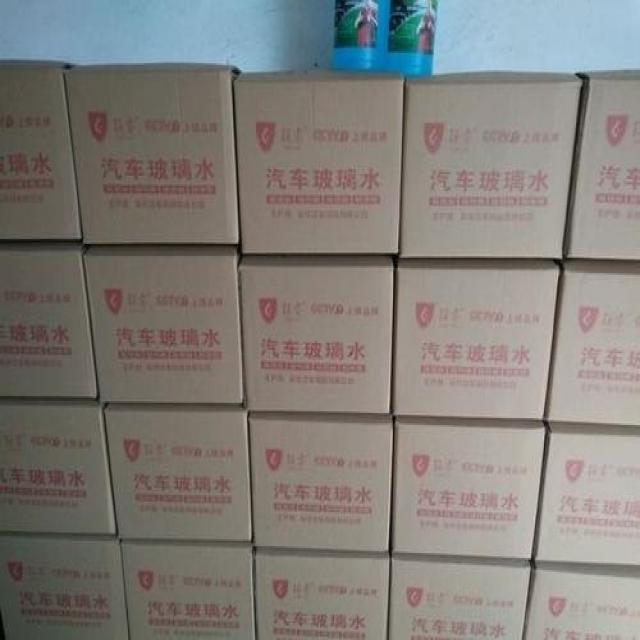box: (399, 70, 581, 258), (64, 62, 241, 243), (233, 71, 404, 254), (392, 257, 560, 419), (81, 243, 245, 402), (237, 255, 394, 414), (392, 416, 546, 560), (249, 411, 394, 553), (103, 403, 252, 541), (1, 395, 117, 535), (545, 257, 639, 425), (533, 419, 639, 565), (1, 238, 98, 397), (0, 60, 81, 238), (563, 70, 639, 259), (1, 533, 129, 638), (121, 540, 255, 638), (254, 546, 391, 638), (388, 553, 530, 638), (523, 561, 638, 637)
